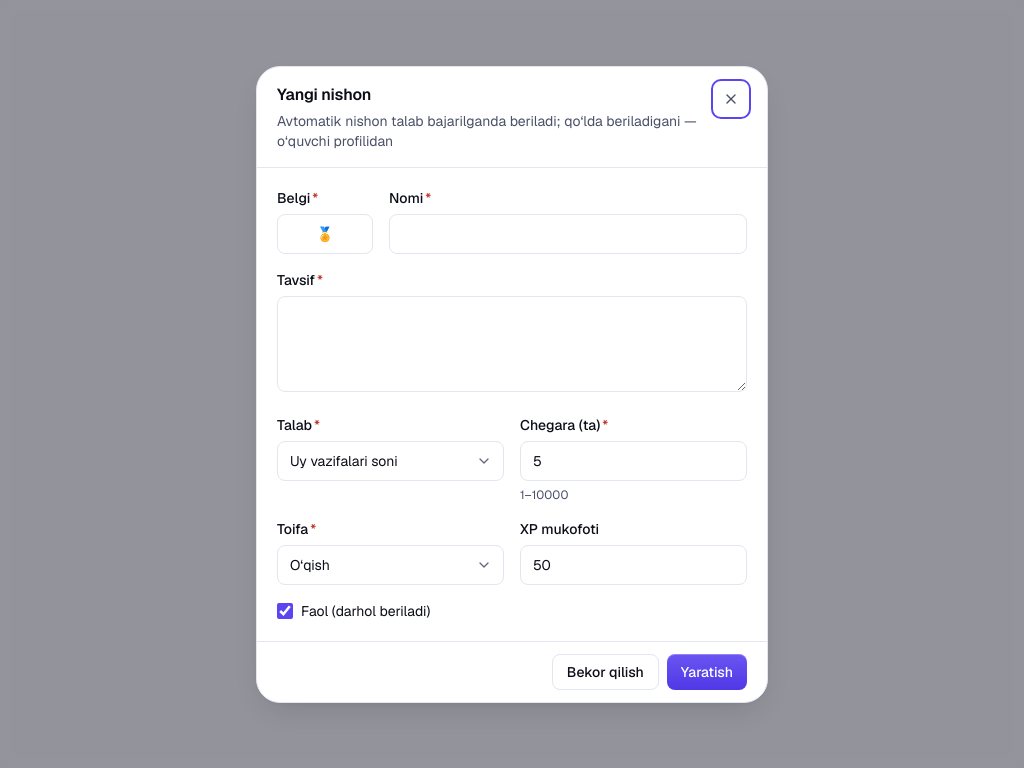
BadgeFormModal (GAP-02) › noto‘g‘ri qiymat — serverga yuborilmaydi
Select "Davomat foizi" in the dropdown labelled "Talab*": (390, 460) [277,440,504,480]
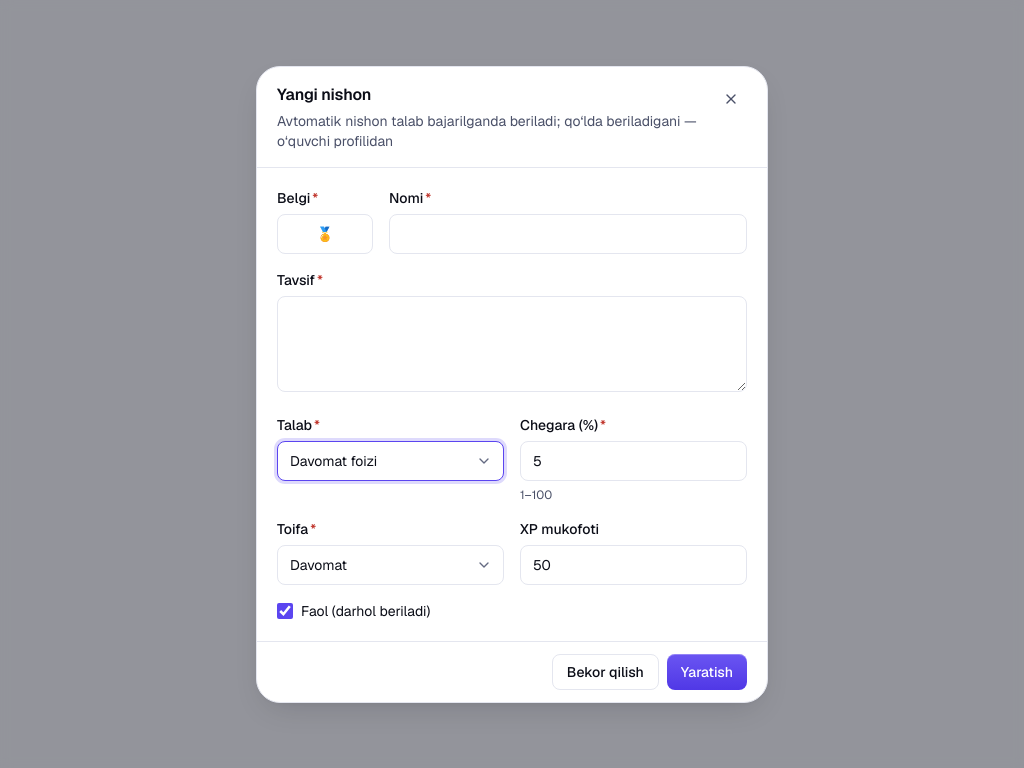
Replace the text in the field labelled "Chegara (%)*" with "150": (634, 460) [520,440,747,480]
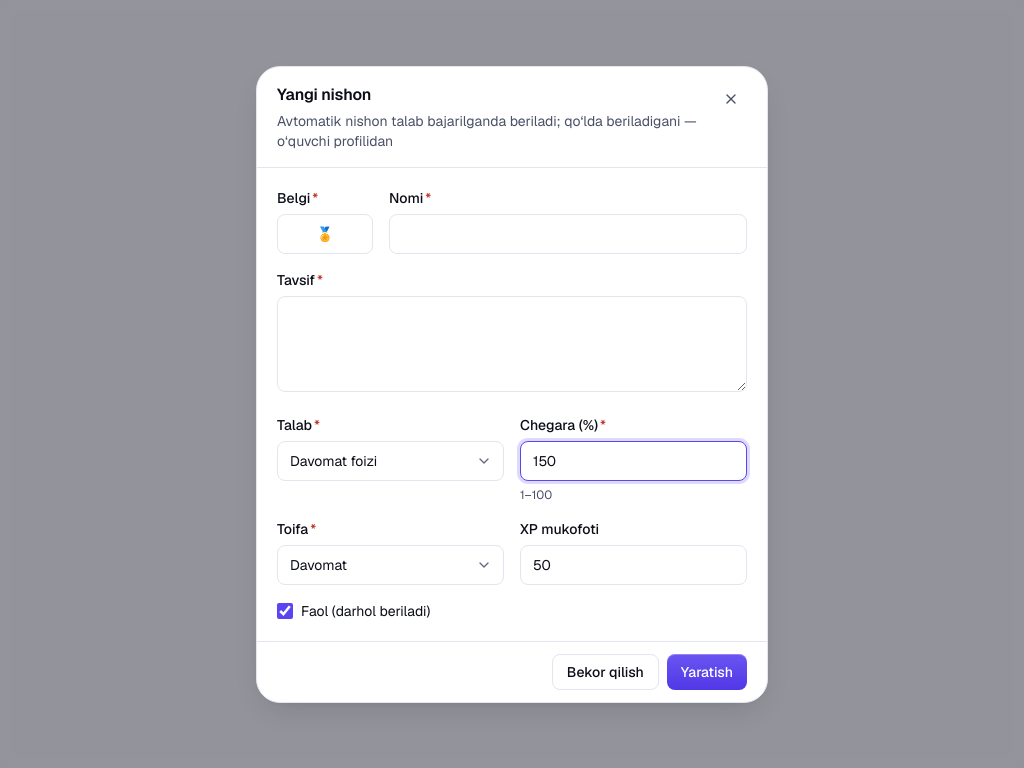
Click the button "Yaratish": (707, 672) [667,654,747,690]
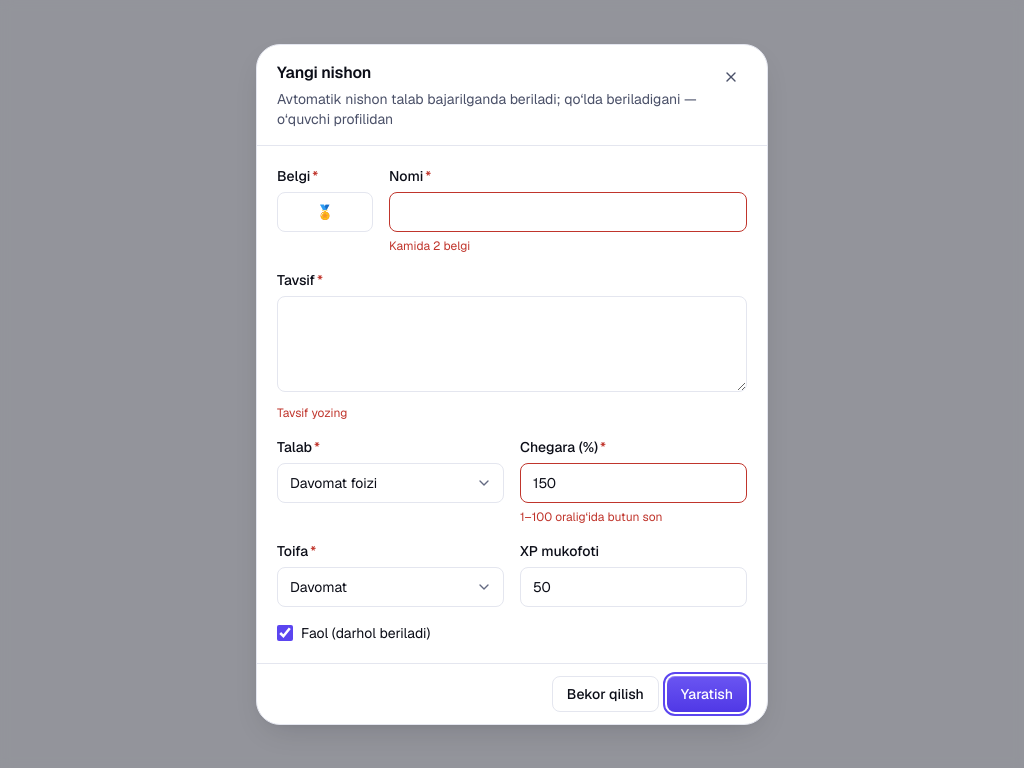
Expected: the text "1–100 oralig‘ida butun son" is shown, [520,508,662,524]
Expected: the text "Kamida 2 belgi" is shown, [389,238,470,254]
